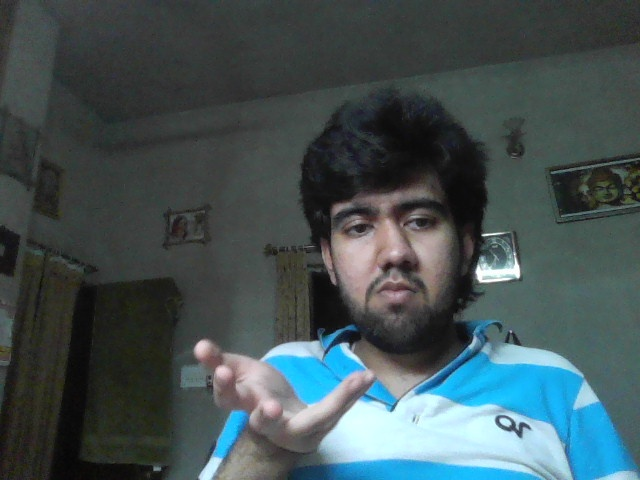What: (194, 339, 377, 455)
